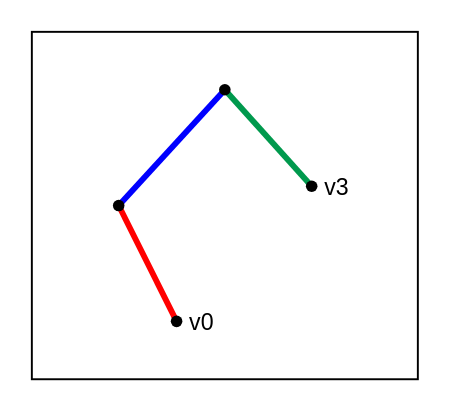
Image size: 450x411. Some labels were removed from this diagram. The shapes that lost their labels are listed below. From the top down, each one's centre as x and y in pixels, then its label:
(x=224, y=89): v2
(x=117, y=204): v1
